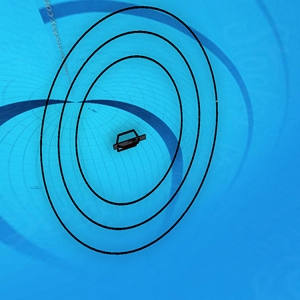circle: (29, 3, 234, 272)
submarine: (113, 129, 149, 152)
